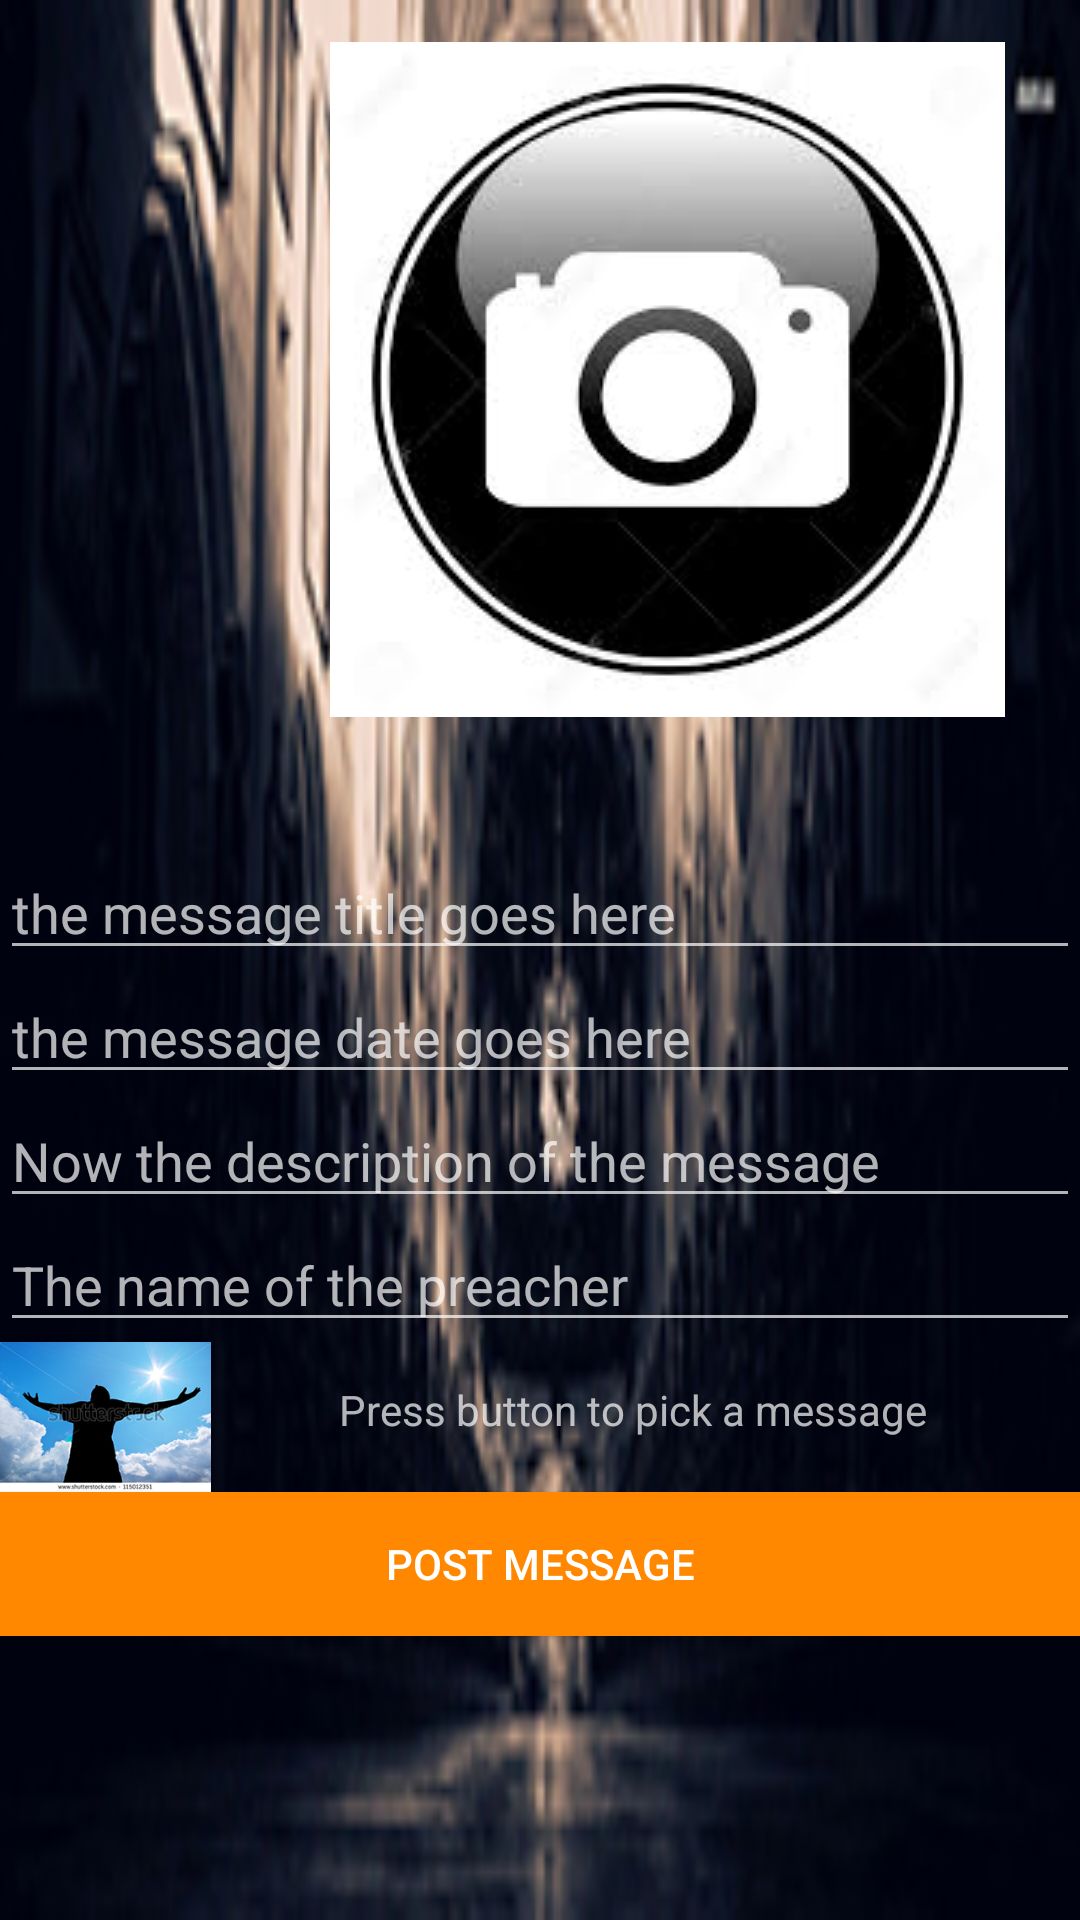

Screen size 1080×1920. Icon name, then its center in pixels as point (x, y):
handsup: point (150, 1417)
